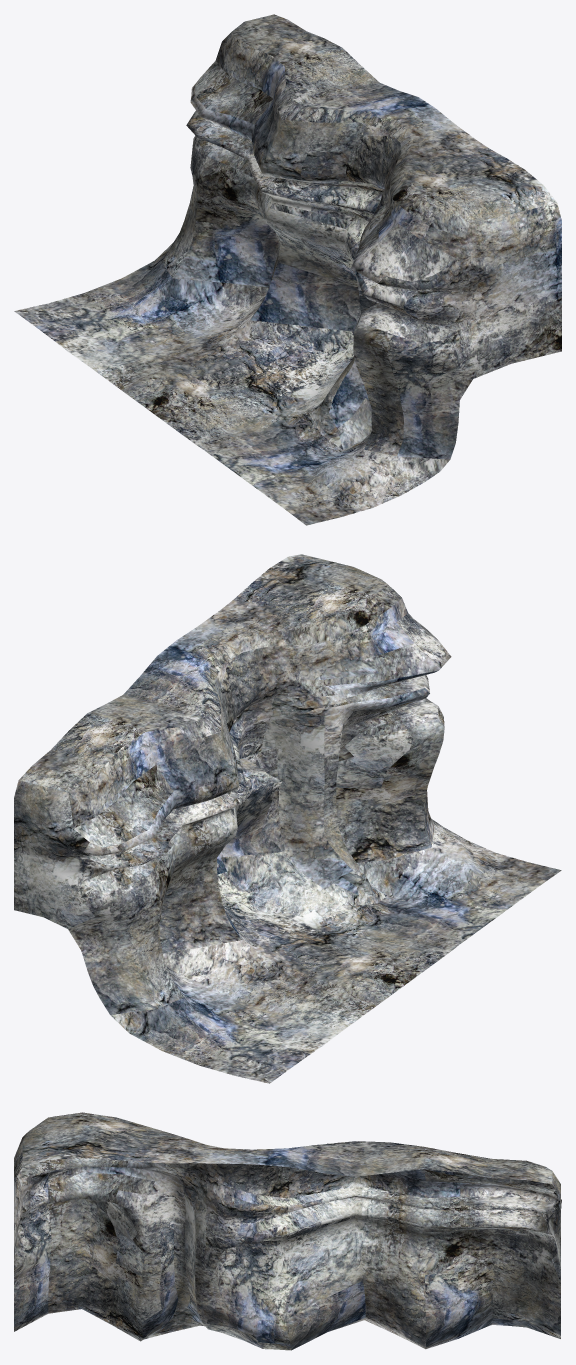
File: ruin-wall.glb
The picture shows the model from 3 angles, top to bottom: view 1: azimuth 30°, elevation 25°; view 2: azimuth 150°, elevation 25°; view 3: azimuth 270°, elevation 25°; orthographic projection. The views are drawn at different scales.
Visible parts, largest first — view 1: ruin-wall; view 2: ruin-wall; view 3: ruin-wall.
Boxes of the visible parts, bbox=[...] form: ruin-wall: bbox=[14, 14, 561, 525]; ruin-wall: bbox=[14, 554, 561, 1083]; ruin-wall: bbox=[14, 1112, 561, 1350].
Bounding box in the file's own units: 20.22 × 20.03 × 39.67.
Materials: 1 (1 with a texture image).
